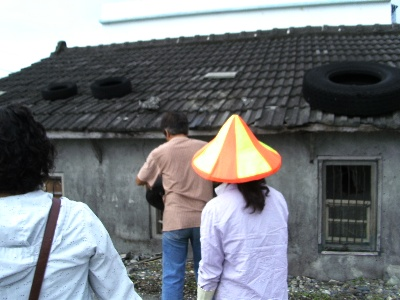tire: (302, 59, 400, 117), (91, 75, 133, 100), (42, 81, 78, 101)
